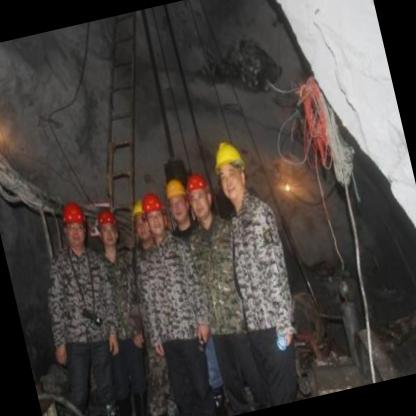helmet: (206, 134, 254, 210), (158, 169, 196, 228), (56, 198, 94, 252), (90, 204, 125, 254), (184, 170, 216, 224), (135, 188, 168, 238), (130, 198, 154, 247)
